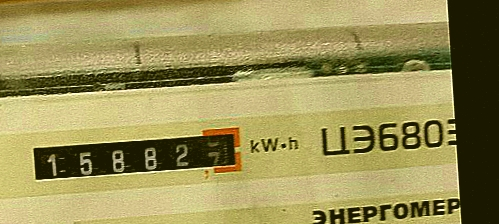1: (47, 148, 62, 178)
2: (174, 141, 193, 168)
5: (78, 148, 97, 179)
7: (207, 148, 222, 166)
8: (110, 146, 128, 175), (143, 143, 161, 172)
screen: (22, 117, 251, 193)
